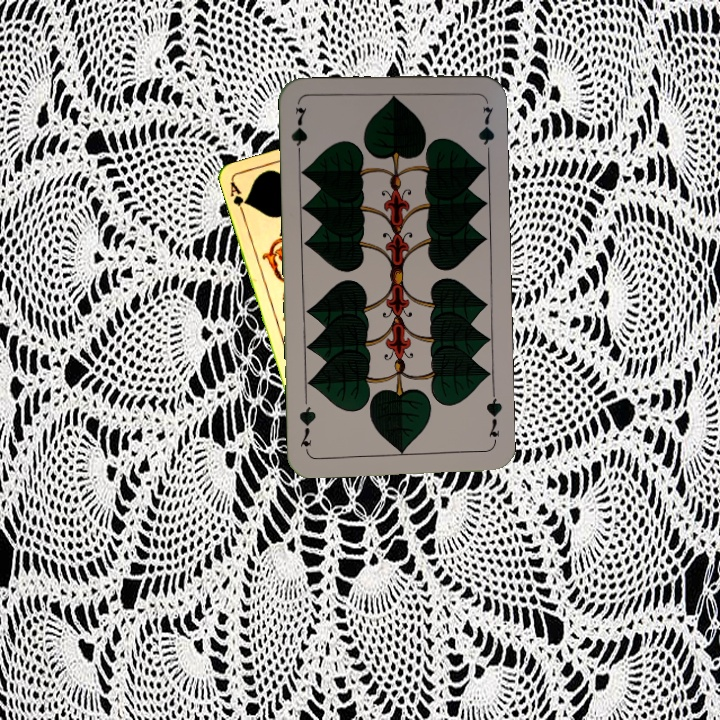G7: (287, 103, 310, 162), (483, 388, 505, 447)
GA: (226, 178, 250, 217)
